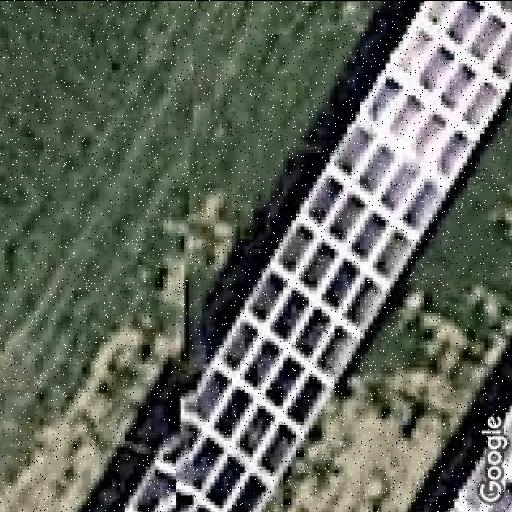solar-panel: (123, 0, 512, 512), (445, 403, 512, 512)
